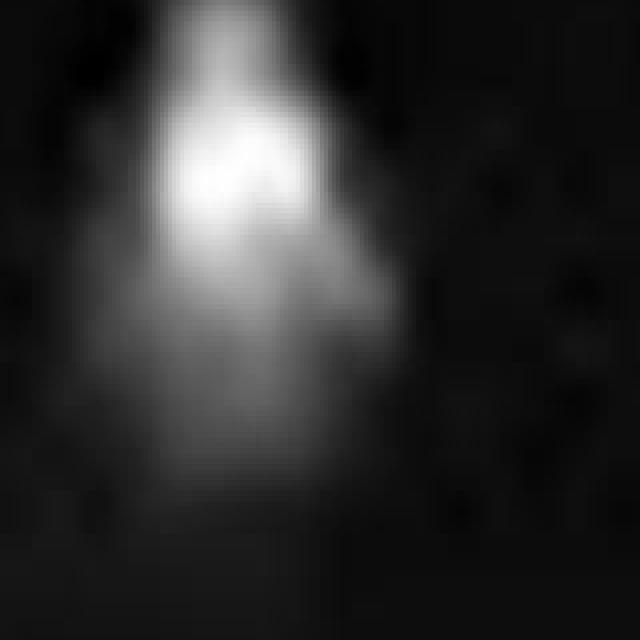person: (97, 1, 373, 492)
